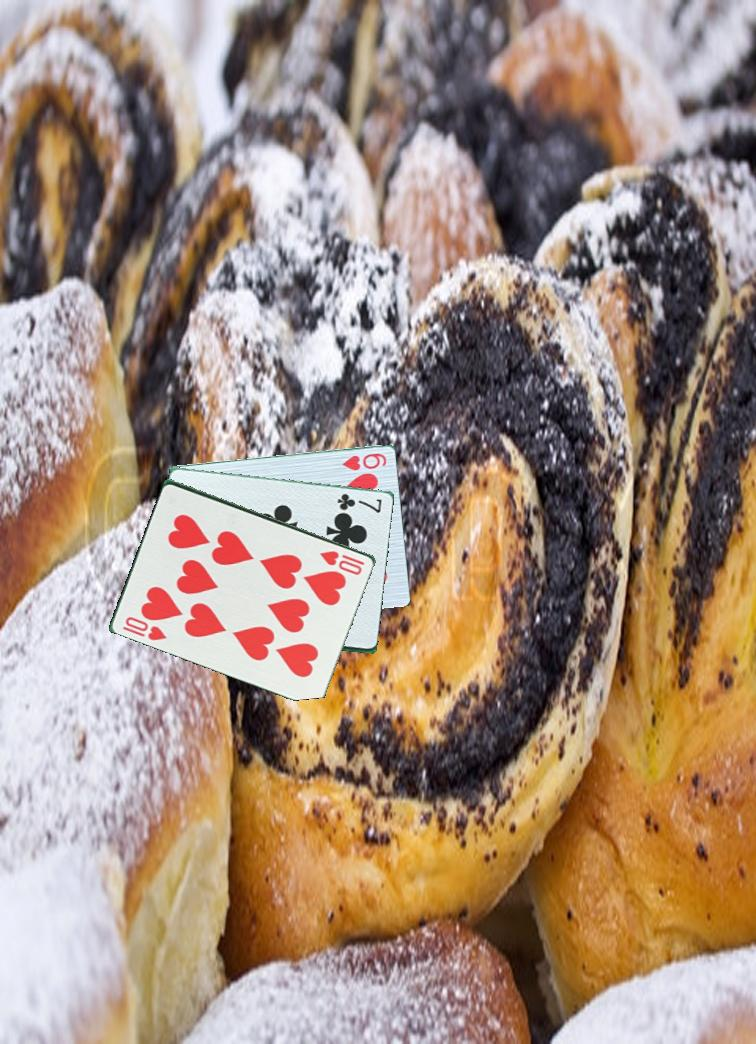6h: (339, 449, 390, 473)
7c: (330, 490, 385, 515)
th: (316, 547, 368, 578), (120, 613, 170, 643)
